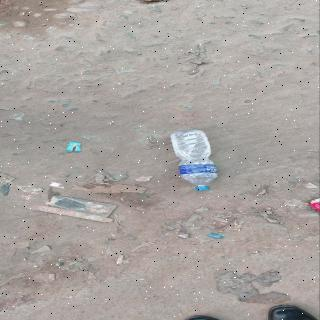Plastic-bottle: (167, 128, 223, 194)
